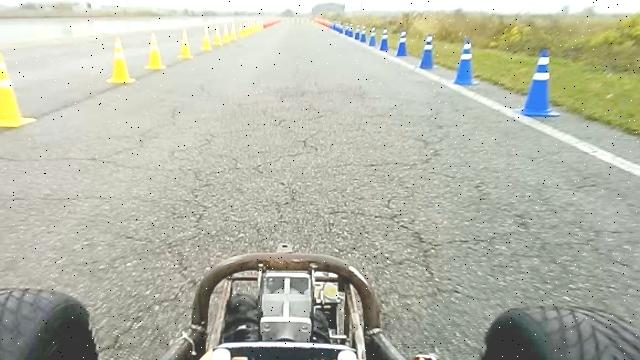blue cone: (519, 48, 561, 117), (452, 38, 480, 86), (419, 33, 439, 70), (395, 30, 408, 56), (379, 28, 390, 51), (368, 26, 377, 47), (345, 22, 354, 38), (360, 24, 367, 44), (354, 24, 361, 41)
yellow cone: (0, 50, 36, 128), (106, 37, 136, 84), (144, 31, 166, 70), (177, 28, 193, 58), (201, 26, 212, 51), (0, 50, 9, 80), (213, 26, 223, 47), (114, 37, 124, 57), (222, 24, 230, 44), (238, 22, 247, 38), (230, 24, 238, 41), (249, 21, 258, 34)
